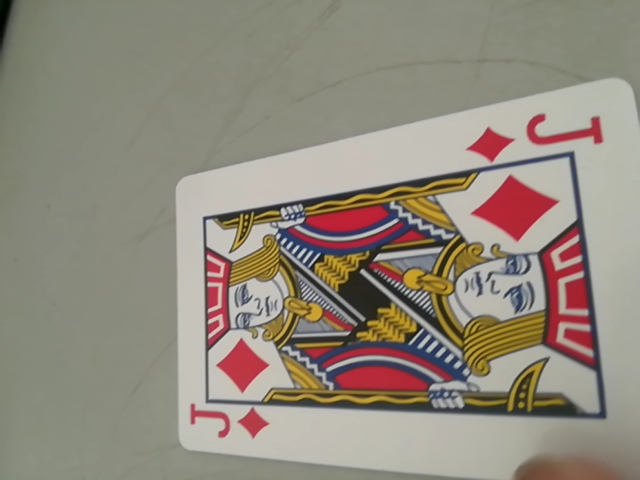fk j: (465, 103, 621, 166), (184, 397, 273, 451)
